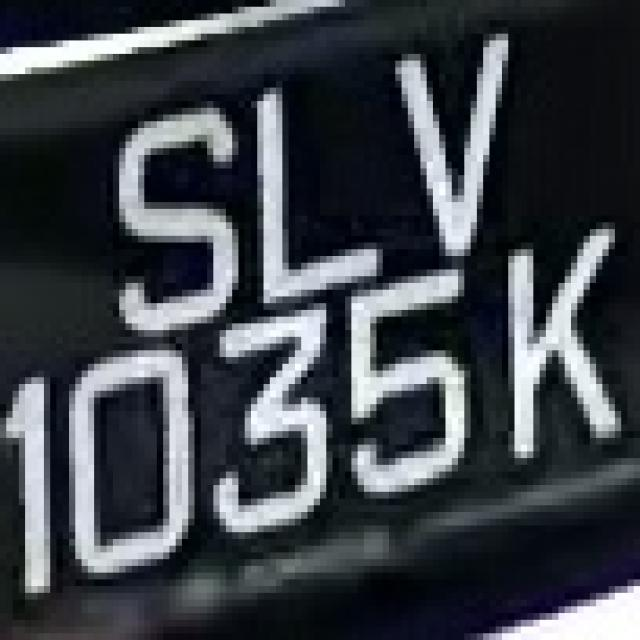0: (56, 323, 214, 586)
1: (0, 343, 63, 600)
3: (188, 296, 339, 552)
5: (332, 256, 470, 505)
K: (477, 202, 627, 478)
L: (226, 67, 389, 310)
S: (106, 81, 238, 337)
V: (364, 13, 514, 256)
